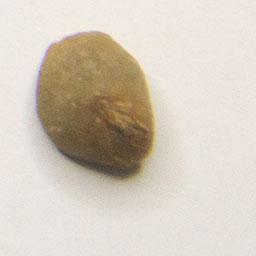defect: (32, 26, 159, 176)
